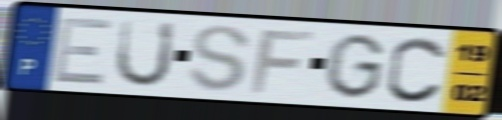C: (383, 34, 450, 105)
E: (49, 15, 116, 87)
F: (247, 28, 317, 96)
G: (321, 31, 388, 101)
S: (187, 22, 254, 94)
U: (112, 17, 179, 90)
